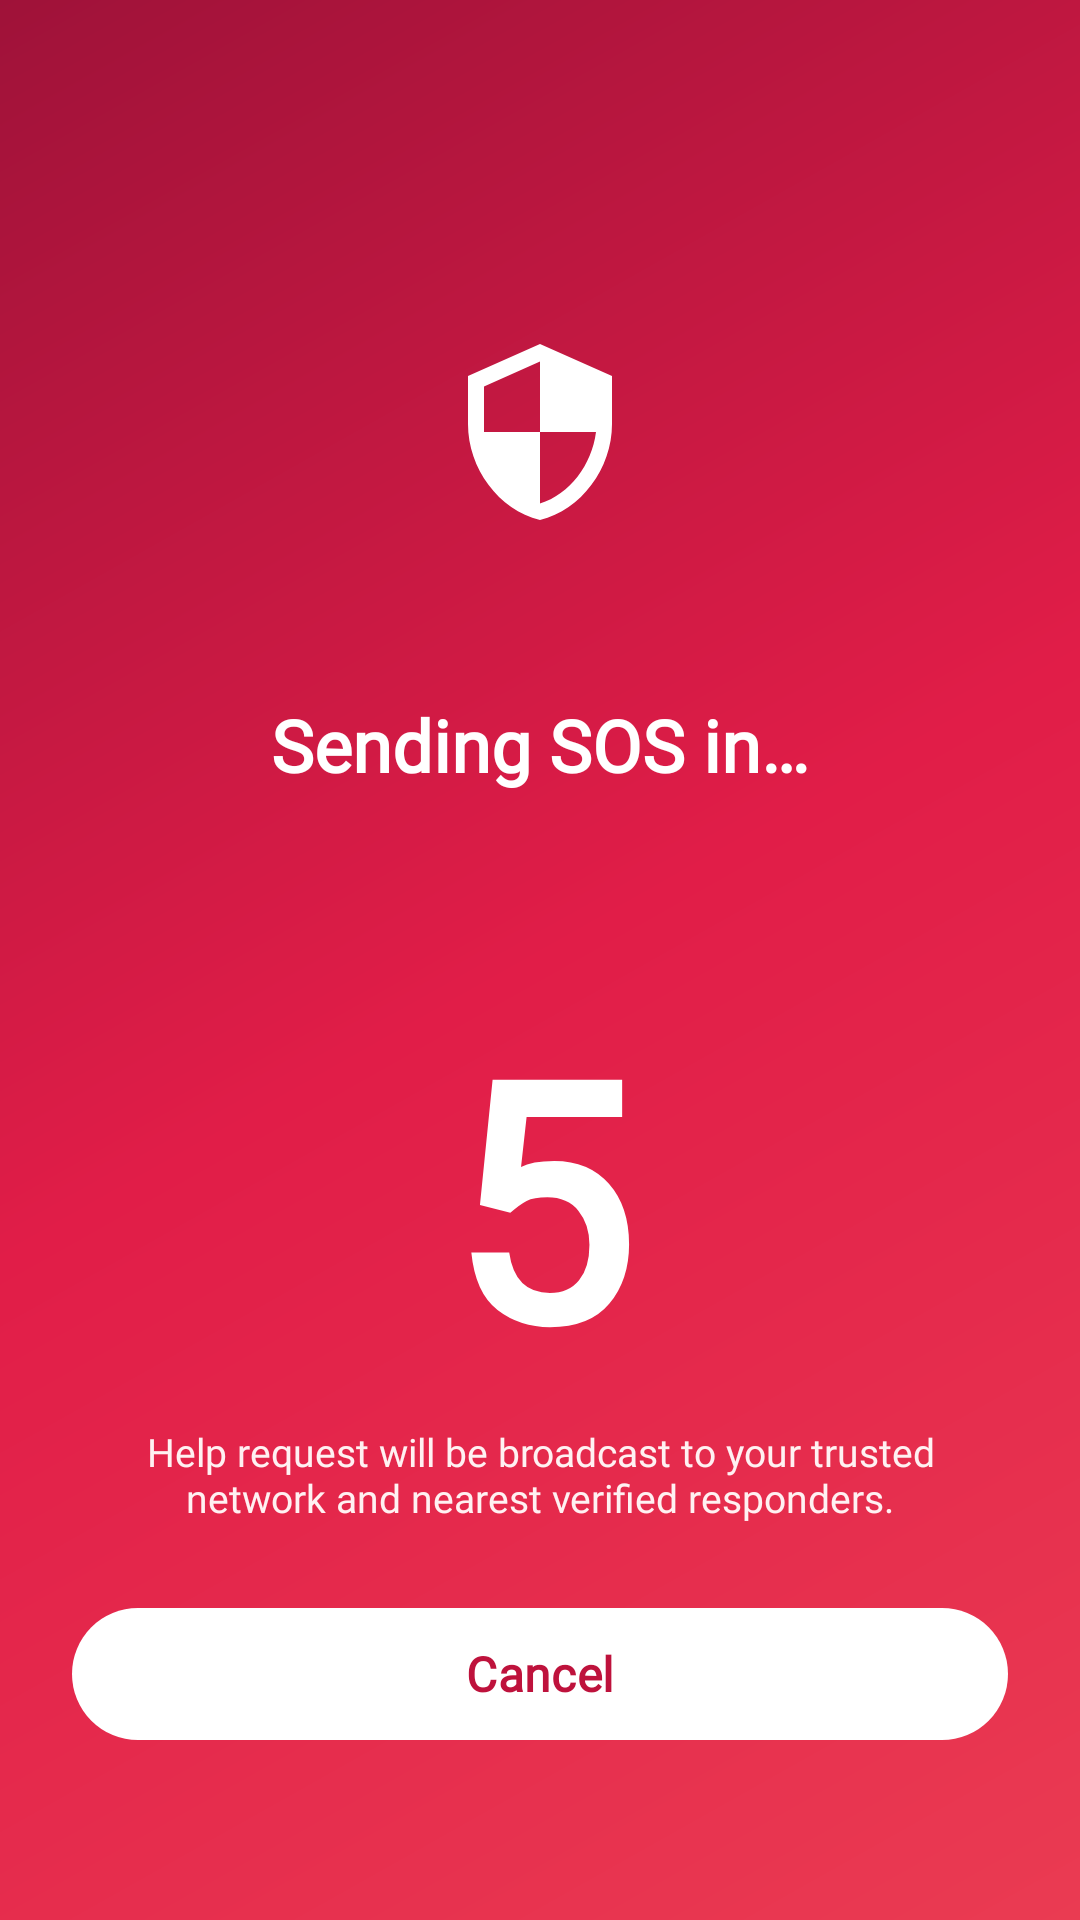

Icons on this 1080px x 1920px Android screen, each with its box as (x1, y1, x2, y2):
shield: (468, 344, 612, 520)
